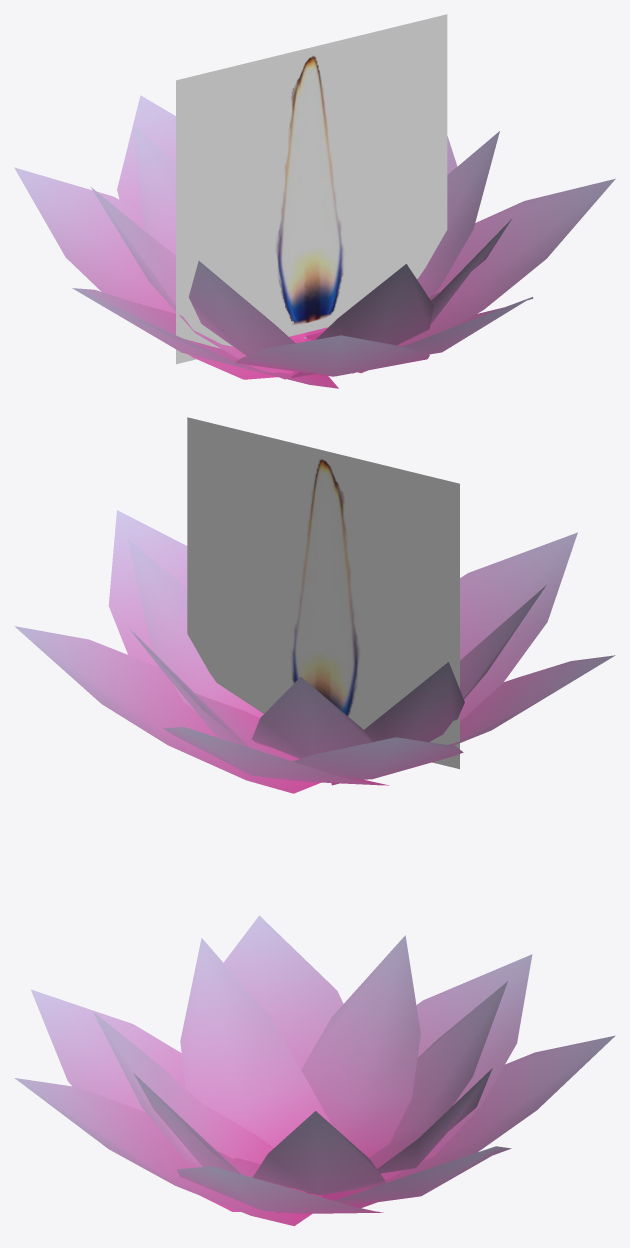
File: flower.fbx
3 renders of one model, top to bottom at view 1: azimuth 30°, elevation 25°; view 2: azimuth 150°, elevation 25°; view 3: azimuth 270°, elevation 25°, orthographic.
Visible parts, largest first — view 1: Plane, flower_LOD0; view 2: Plane, flower_LOD0; view 3: flower_LOD0.
Boxes of the visible parts, x1,y1,x2,y2 form: Plane: (176,14,447,364); flower_LOD0: (14,95,615,388); Plane: (187,417,459,769); flower_LOD0: (14,510,615,793); flower_LOD0: (14,915,615,1226).
Size of what is drawn, in the model's own units: 383 by 225 by 389.
2 materials, 2 textured.
